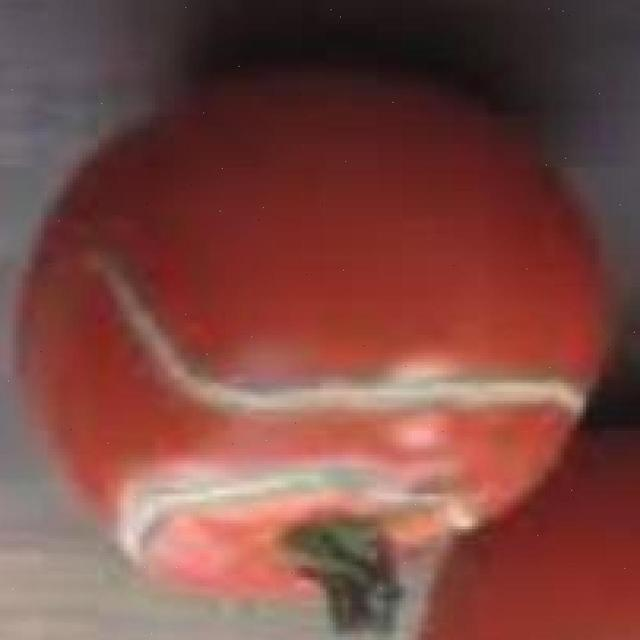Cracking Fruit: (191, 82, 355, 351)
